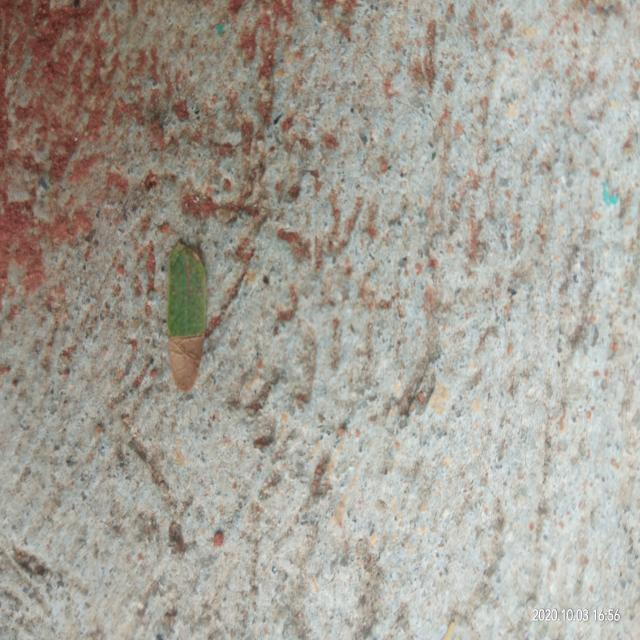defectedtamarind: (169, 332, 205, 393)
tamarind: (168, 242, 206, 392)
